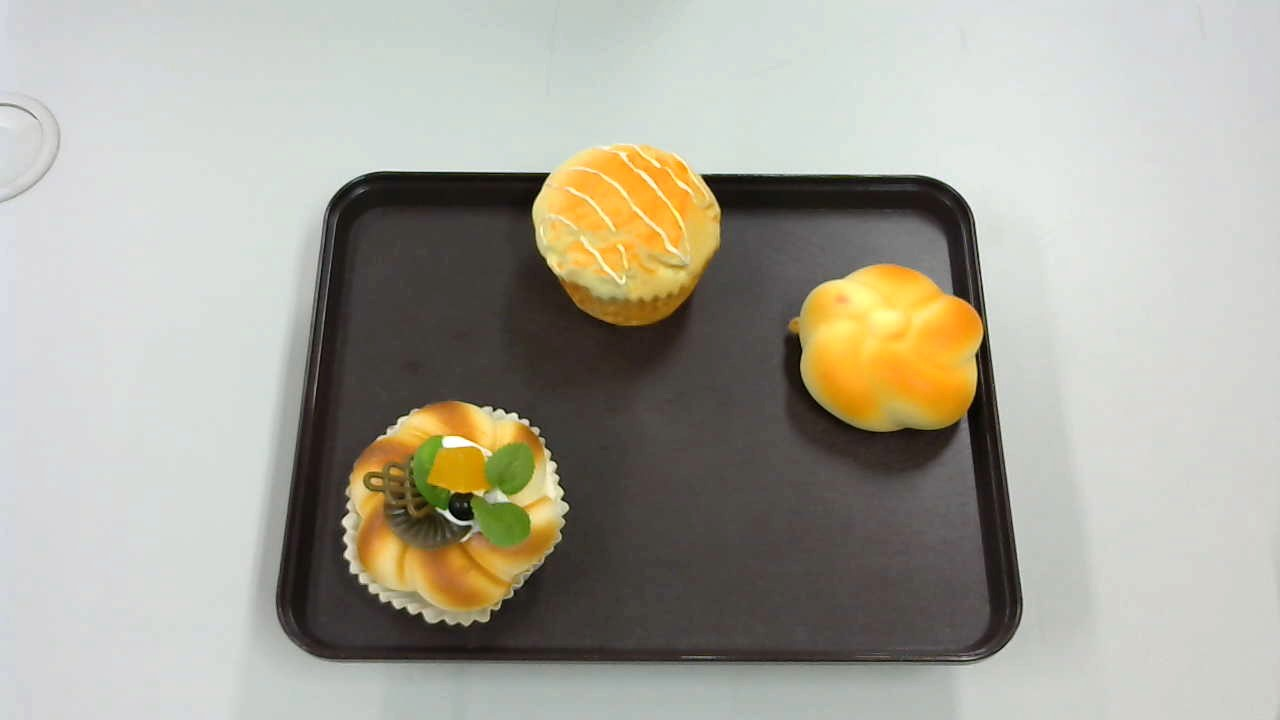croissant: (787, 262, 982, 431)
cupcake: (531, 144, 720, 324)
fruit tart: (341, 401, 571, 628)
